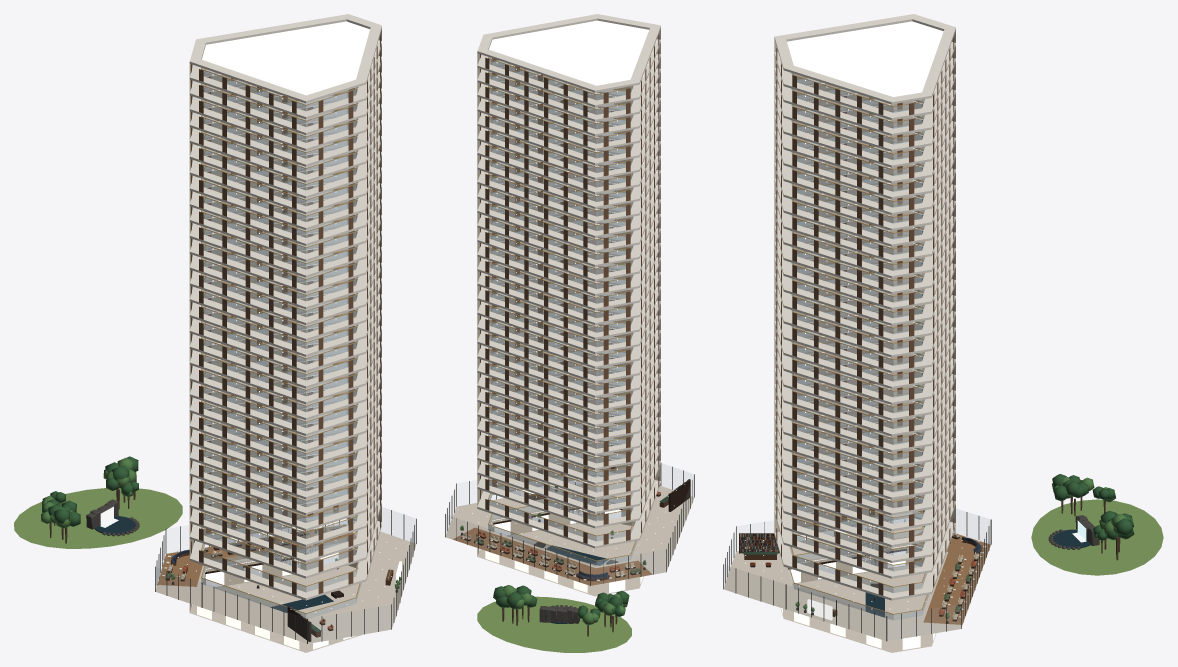
File: akane-lobby.glb
3 views of the same model, side by side, from view 1: azimuth 30°, elevation 25°; view 2: azimuth 150°, elevation 25°; view 3: azimuth 270°, elevation 25° (orthographic). The views are drawn at different scales.
Visible parts, largest first — view 1: Space_SlabEdge, Space_RailGlass, Space_Door, Space_CorridorWall, Space_LobbyStone, Space_Brass, Space_Skylight, Space_Lawn, Space_Cove, Space_LoungeOak, Space_LeafDark, Space_Mullion (+6 smaller); view 2: Space_SlabEdge, Space_RailGlass, Space_Door, Space_CorridorWall, Space_LobbyStone, Space_Brass, Space_Skylight, Space_Lawn, Space_LoungeOak, Space_Cove, Space_ShopGlow, Space_LeafDark (+7 smaller); view 3: Space_SlabEdge, Space_RailGlass, Space_Door, Space_CorridorWall, Space_LobbyStone, Space_Skylight, Space_Brass, Space_Lawn, Space_LoungeOak, Space_ShopGlow, Space_LeafDark, Space_Cove (+5 smaller).
Boxes of the visible parts, bbox=[...] form: Space_SlabEdge: bbox=[189, 14, 381, 600]; Space_RailGlass: bbox=[201, 68, 361, 618]; Space_Door: bbox=[191, 34, 380, 594]; Space_CorridorWall: bbox=[189, 29, 381, 612]; Space_LobbyStone: bbox=[155, 523, 416, 652]; Space_Brass: bbox=[163, 68, 360, 629]; Space_Skylight: bbox=[202, 21, 369, 95]; Space_Lawn: bbox=[14, 488, 182, 548]; Space_Cove: bbox=[202, 21, 368, 577]; Space_LoungeOak: bbox=[157, 524, 356, 586]; Space_LeafDark: bbox=[42, 456, 138, 526]; Space_Mullion: bbox=[155, 510, 416, 643]; Space_SlabEdge: bbox=[477, 14, 660, 548]; Space_RailGlass: bbox=[488, 57, 637, 566]; Space_Door: bbox=[480, 34, 659, 544]; Space_CorridorWall: bbox=[477, 28, 660, 556]; Space_LobbyStone: bbox=[445, 480, 694, 596]; Space_Brass: bbox=[463, 57, 665, 582]; Space_Skylight: bbox=[489, 20, 648, 85]; Space_Lawn: bbox=[477, 596, 631, 652]; Space_LoungeOak: bbox=[453, 527, 652, 585]; Space_Cove: bbox=[489, 20, 648, 526]; Space_ShopGlow: bbox=[479, 486, 643, 592]; Space_LeafDark: bbox=[493, 585, 629, 618]; Space_SlabEdge: bbox=[774, 14, 955, 600]; Space_RailGlass: bbox=[788, 73, 929, 620]; Space_Door: bbox=[776, 36, 954, 595]; Space_CorridorWall: bbox=[774, 30, 955, 583]; Space_LobbyStone: bbox=[724, 526, 990, 652]; Space_Skylight: bbox=[787, 21, 943, 96]; Space_Brass: bbox=[749, 73, 984, 619]; Space_Lawn: bbox=[1031, 499, 1163, 575]; Space_LoungeOak: bbox=[915, 531, 990, 624]; Space_ShopGlow: bbox=[781, 551, 935, 649]; Space_LeafDark: bbox=[1052, 474, 1134, 540]; Space_Cove: bbox=[788, 21, 941, 563].
Bounding box in the file's own units: 55.8 × 101 × 73.19.
